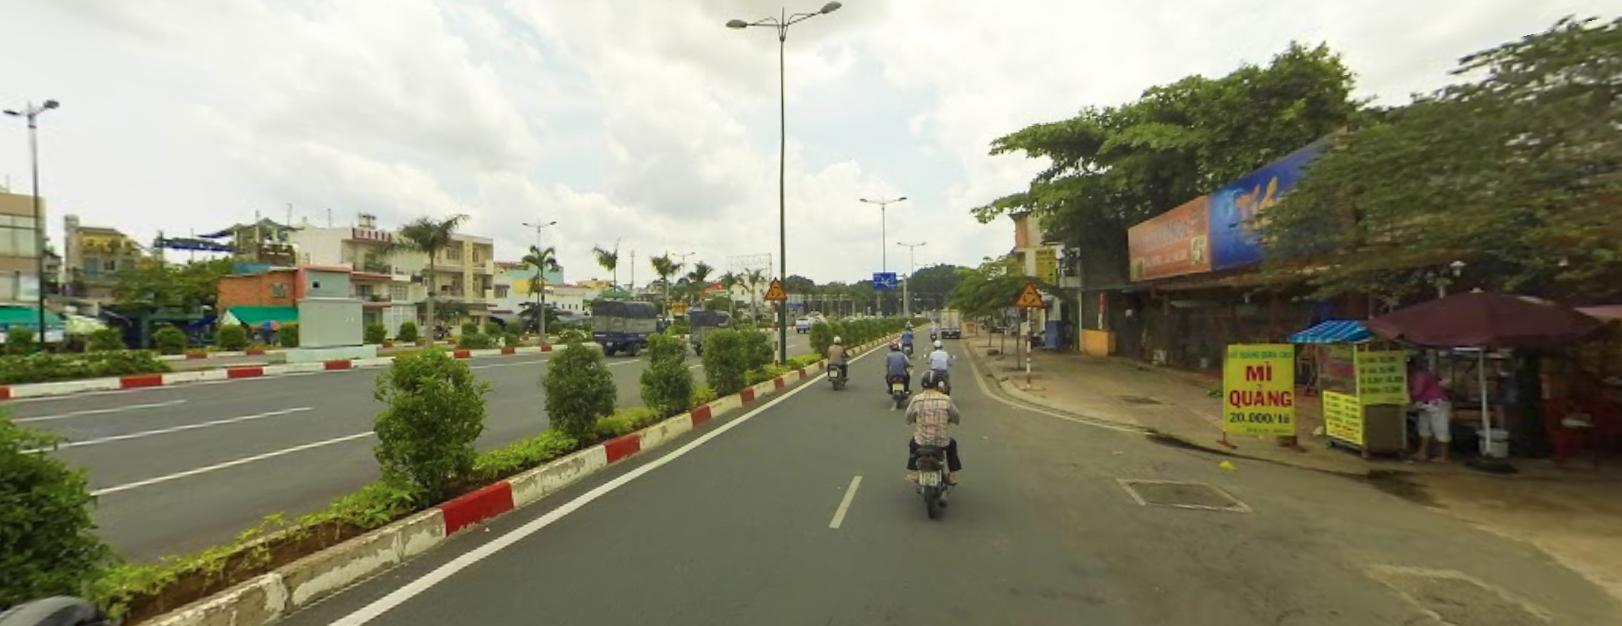Nguy hiem: (1011, 277, 1047, 309), (762, 274, 786, 300)
